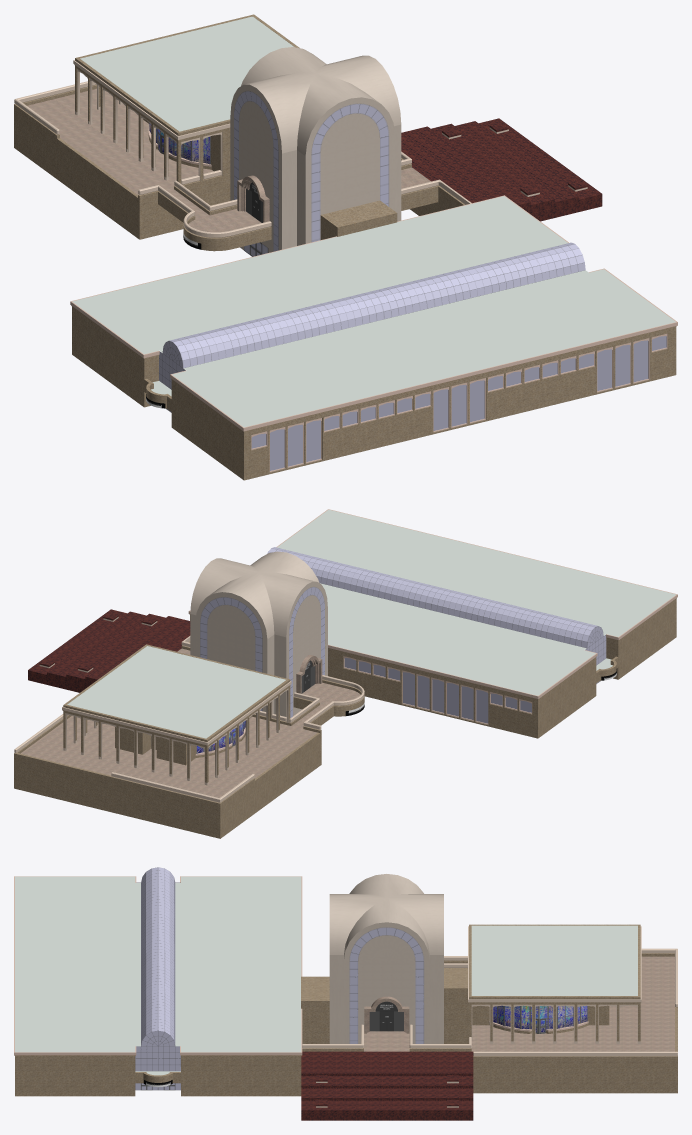
Rendered from Bible Building Final Exporting.fbx.
3 views of the same model, one above another, from view 1: azimuth 30°, elevation 25°; view 2: azimuth 150°, elevation 25°; view 3: azimuth 270°, elevation 25° (orthographic). The views are drawn at different scales.
Parts seen in each view (by area): view 1: Cube.061, Plane.002, Cube.021, Plane.005, Cube, Cube.045, Cube.004, Cube.002, Cube.103, Cube.063, Cube.022, Cube.025 (+12 smaller); view 2: Cube.061, Plane.002, Cube, Cube.004, Cube.021, Plane.005, Cube.090, Cube.045, Cube.002, Cube.131, Cube.103, Cube.094 (+8 smaller); view 3: Cube.061, Plane.002, Cube, Cube.045, Cube.021, Cube.091, Cube.004, Plane.005, Cube.002, Cube.014, Cube.017, Cylinder.000 (+8 smaller).
Part boxes in pixels (left/top/right/bottom): Cube.061: left=72, top=196, right=675, bottom=427; Plane.002: left=230, top=47, right=401, bottom=252; Cube.021: left=72, top=306, right=676, bottom=480; Plane.005: left=159, top=242, right=585, bottom=389; Cube: left=80, top=16, right=293, bottom=131; Cube.045: left=401, top=118, right=602, bottom=221; Cube.004: left=27, top=89, right=261, bottom=232; Cube.002: left=73, top=14, right=299, bottom=183; Cube.103: left=57, top=138, right=139, bottom=239; Cube.063: left=244, top=322, right=676, bottom=431; Cube.022: left=433, top=378, right=485, bottom=432; Cube.025: left=597, top=338, right=649, bottom=392; Cube.061: left=277, top=509, right=676, bottom=695; Plane.002: left=190, top=551, right=327, bottom=717; Cube: left=67, top=646, right=285, bottom=738; Cube.004: left=21, top=682, right=360, bottom=797; Cube.021: left=190, top=598, right=676, bottom=738; Plane.005: left=267, top=547, right=606, bottom=665; Cube.090: left=16, top=753, right=218, bottom=838; Cube.045: left=28, top=609, right=190, bottom=692; Cube.002: left=62, top=644, right=291, bottom=785; Cube.131: left=402, top=670, right=488, bottom=724; Cube.103: left=255, top=732, right=320, bottom=813; Cube.094: left=218, top=778, right=254, bottom=838; Cube.061: left=15, top=876, right=301, bottom=1052; Plane.002: left=329, top=874, right=443, bottom=1043; Cube: left=471, top=925, right=637, bottom=995; Cube.045: left=301, top=1051, right=473, bottom=1120; Cube.021: left=15, top=1056, right=301, bottom=1096; Cube.091: left=473, top=1056, right=677, bottom=1093; Cube.004: left=471, top=956, right=674, bottom=1051; Plane.005: left=135, top=867, right=180, bottom=1071; Cube.002: left=468, top=924, right=641, bottom=1043; Cube.014: left=301, top=976, right=329, bottom=1043; Cube.017: left=444, top=968, right=468, bottom=1043; Cylinder.000: left=493, top=1005, right=587, bottom=1033.
Size of the model in its own units: 90.52 by 27.52 by 116.
